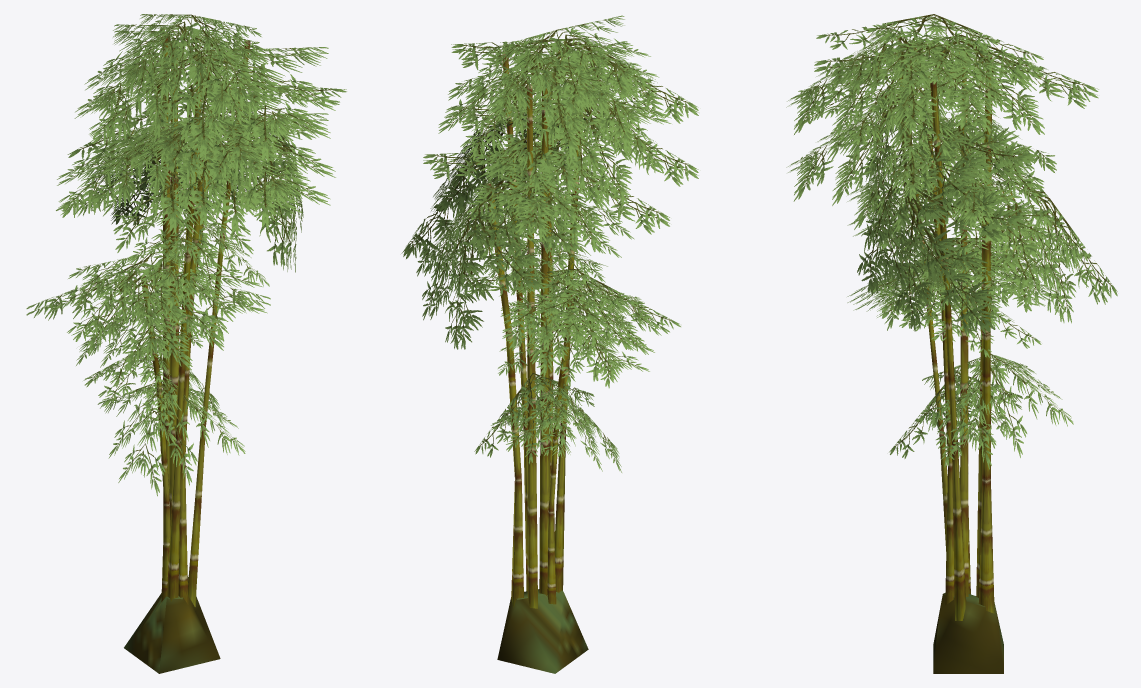
File: bamboo_0.glb
3 views of the same model, side by side, from view 1: azimuth 30°, elevation 25°; view 2: azimuth 150°, elevation 25°; view 3: azimuth 270°, elevation 25° (orthographic). The views are drawn at different scales.
Parts seen in each view (by area): view 1: bamboo_0; view 2: bamboo_0; view 3: bamboo_0.
Boxes of the visible parts, bbox=[...] form: bamboo_0: bbox=[26, 14, 346, 673]; bamboo_0: bbox=[401, 15, 698, 673]; bamboo_0: bbox=[786, 14, 1117, 673].
Size of the model in its own units: 4.3 by 9.44 by 5.09.
Materials: 1 (1 with a texture image).
